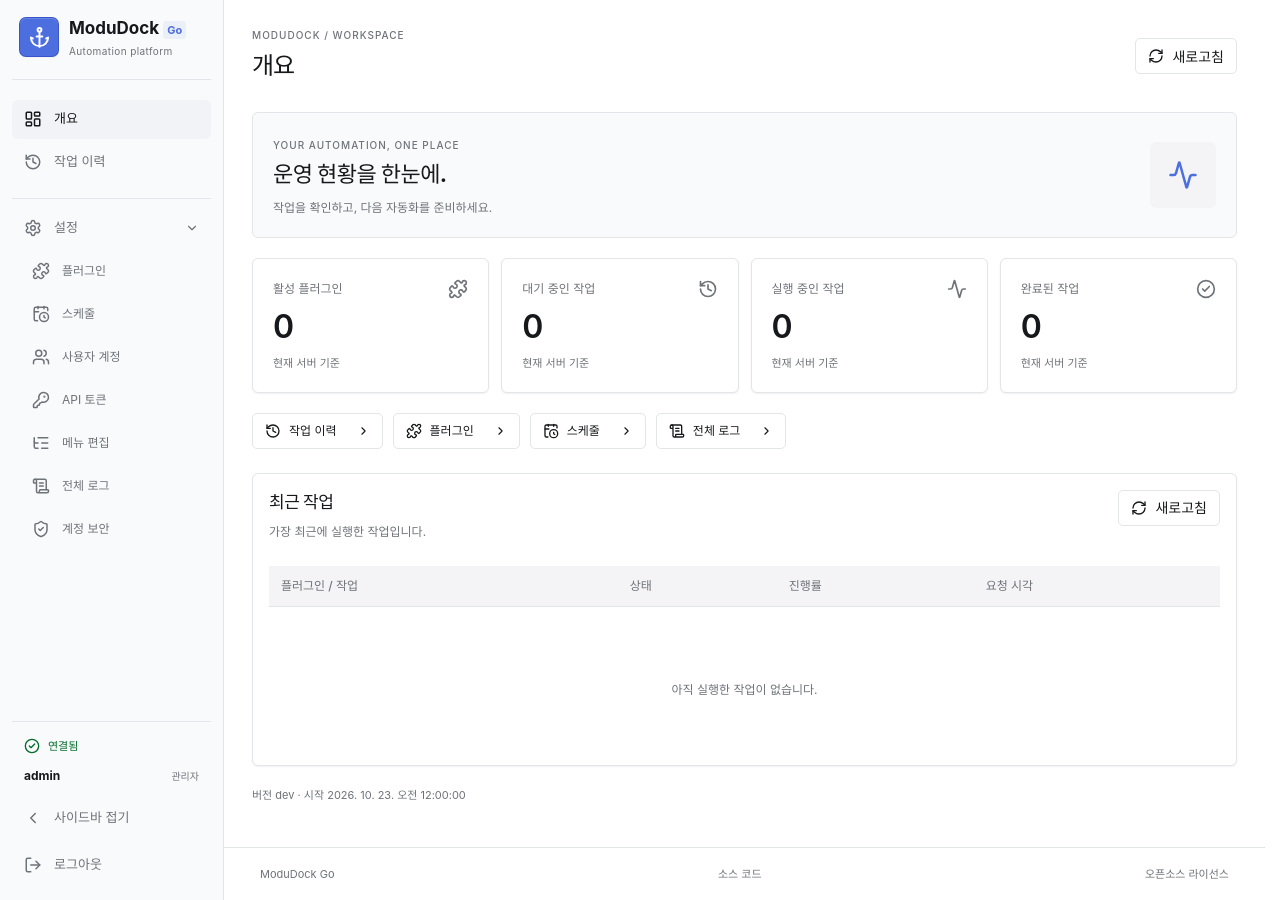
Test case: 권한 거부 403은 로그인 상태를 유지하고 오류를 표시한다
Click the button "사용자 계정".
click(112, 357)  # box [12,338,211,376]
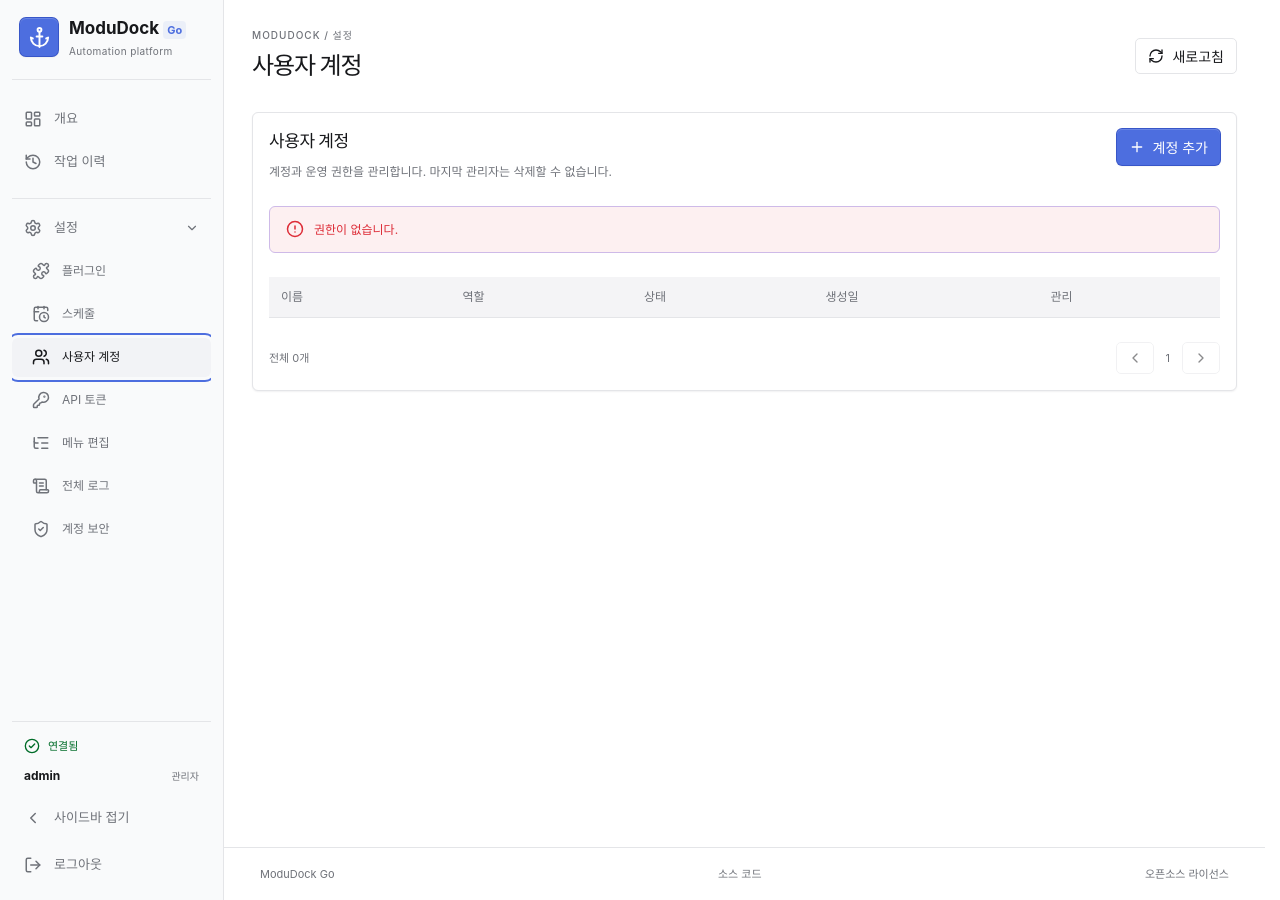
Result: the message reads "권한이 없습니다." at [314,222,398,237]
